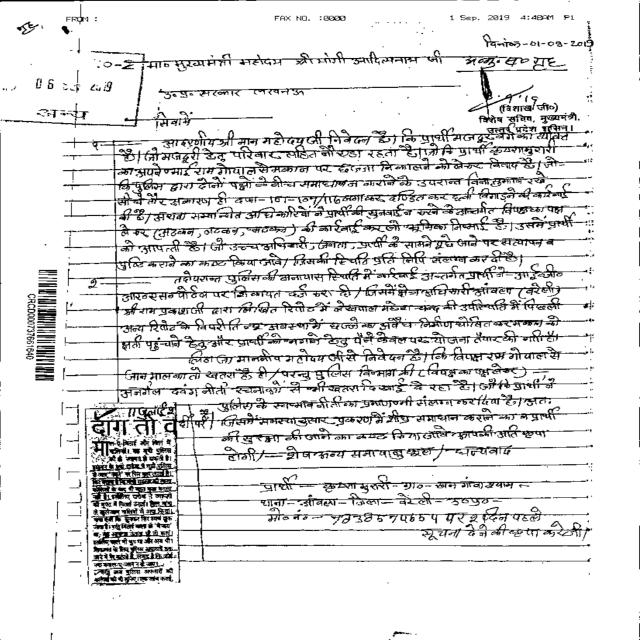antritgovtstamp: (13, 38, 149, 131)
barcode: (20, 262, 64, 385)
signnamestamp: (460, 68, 588, 134)
